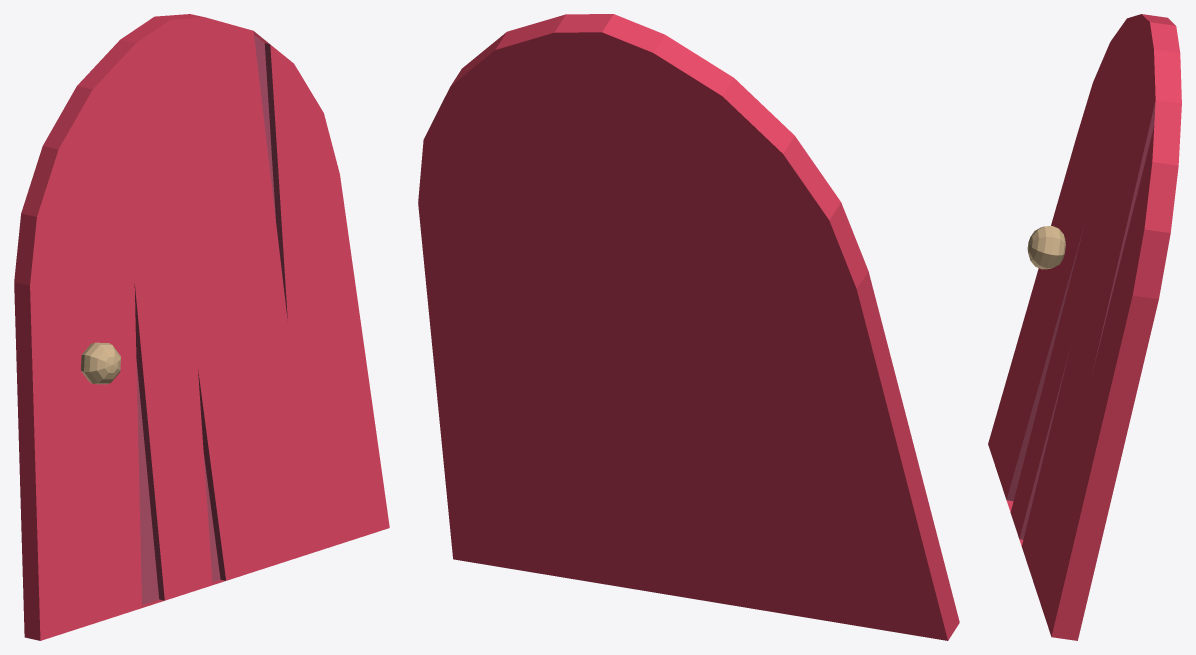
File: _door_stump_house.fbx
3 views of the same model, side by side, from view 1: azimuth 30°, elevation 25°; view 2: azimuth 150°, elevation 25°; view 3: azimuth 270°, elevation 25° (orthographic). The views are drawn at different scales.
Parts seen in each view (by area): view 1: door; view 2: door; view 3: door.
Boxes of the visible parts, x1=… form: door: x1=14, y1=14, x2=389, y2=640; door: x1=418, y1=14, x2=959, y2=640; door: x1=988, y1=14, x2=1181, y2=640.
Size of the model in its own units: 66.06 by 85.61 by 28.17.
